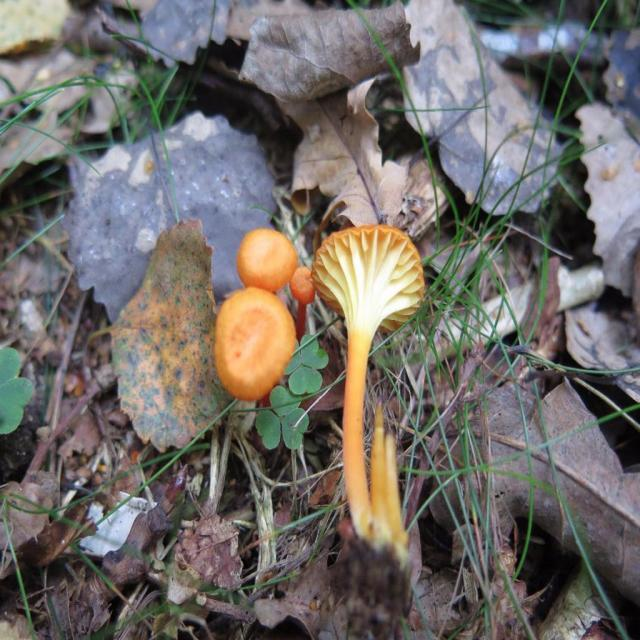Cantharellus cibarius: (314, 226, 424, 556), (214, 285, 298, 400), (236, 228, 295, 291)
